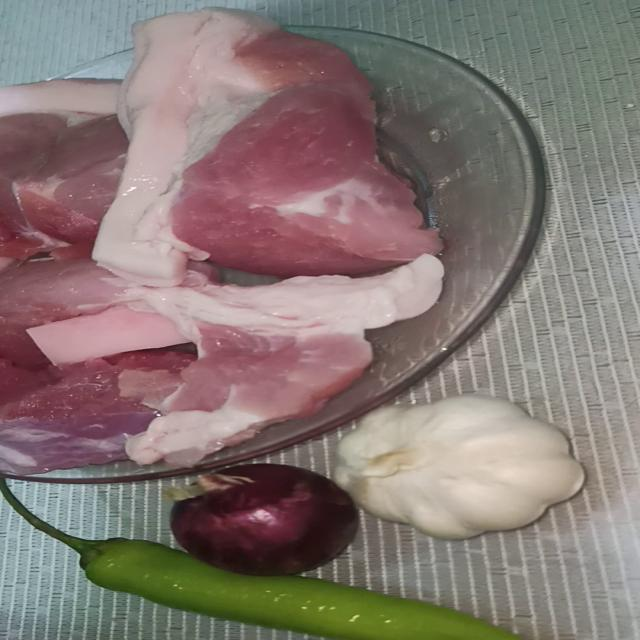chili_pepper: (24, 535, 625, 640)
garlic: (281, 394, 581, 549)
onion: (157, 453, 350, 572)
pork: (113, 8, 415, 275), (140, 273, 460, 475), (0, 332, 237, 493), (0, 48, 116, 260), (0, 244, 172, 359)
